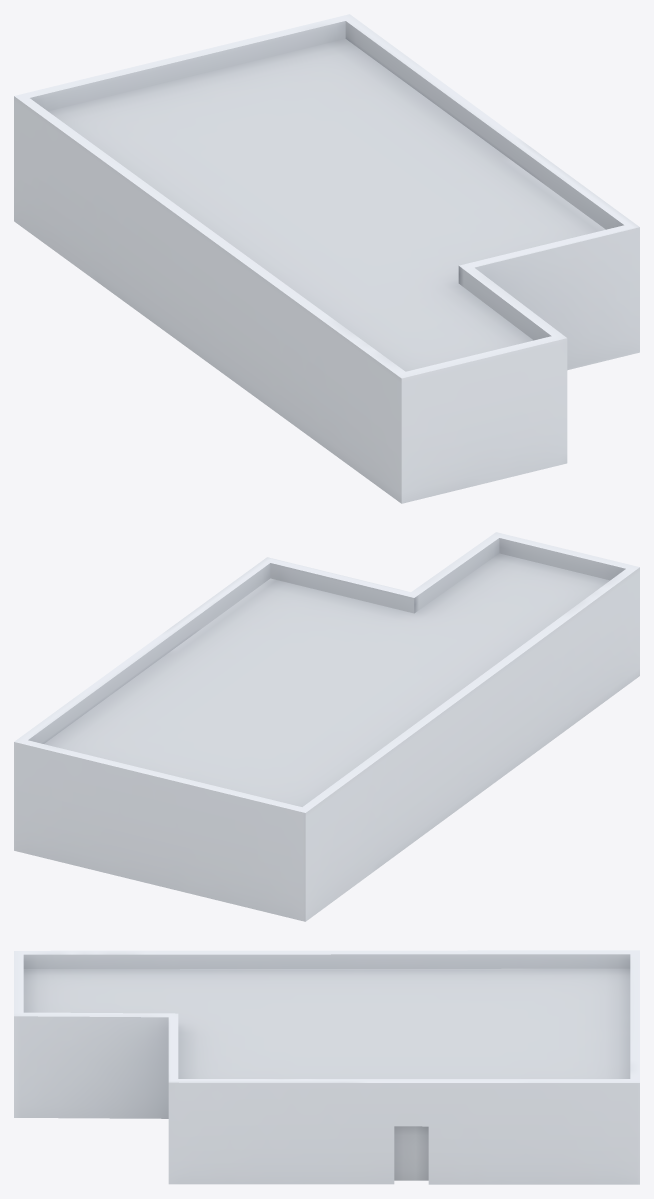
The picture shows the model from 3 angles, top to bottom: view 1: azimuth 30°, elevation 25°; view 2: azimuth 150°, elevation 25°; view 3: azimuth 270°, elevation 25°; orthographic projection. The views are drawn at different scales.
Parts seen in each view (by area): view 1: 70030076680617298.001; view 2: 70030076680617298.001; view 3: 70030076680617298.001.
Part boxes in pixels (bbox=[...]): 70030076680617298.001: bbox=[14, 14, 639, 503]; 70030076680617298.001: bbox=[14, 532, 639, 921]; 70030076680617298.001: bbox=[14, 950, 639, 1184].
Bounding box in the file's own units: 9.81 × 3.5 × 19.56.
1 material, 1 textured.
